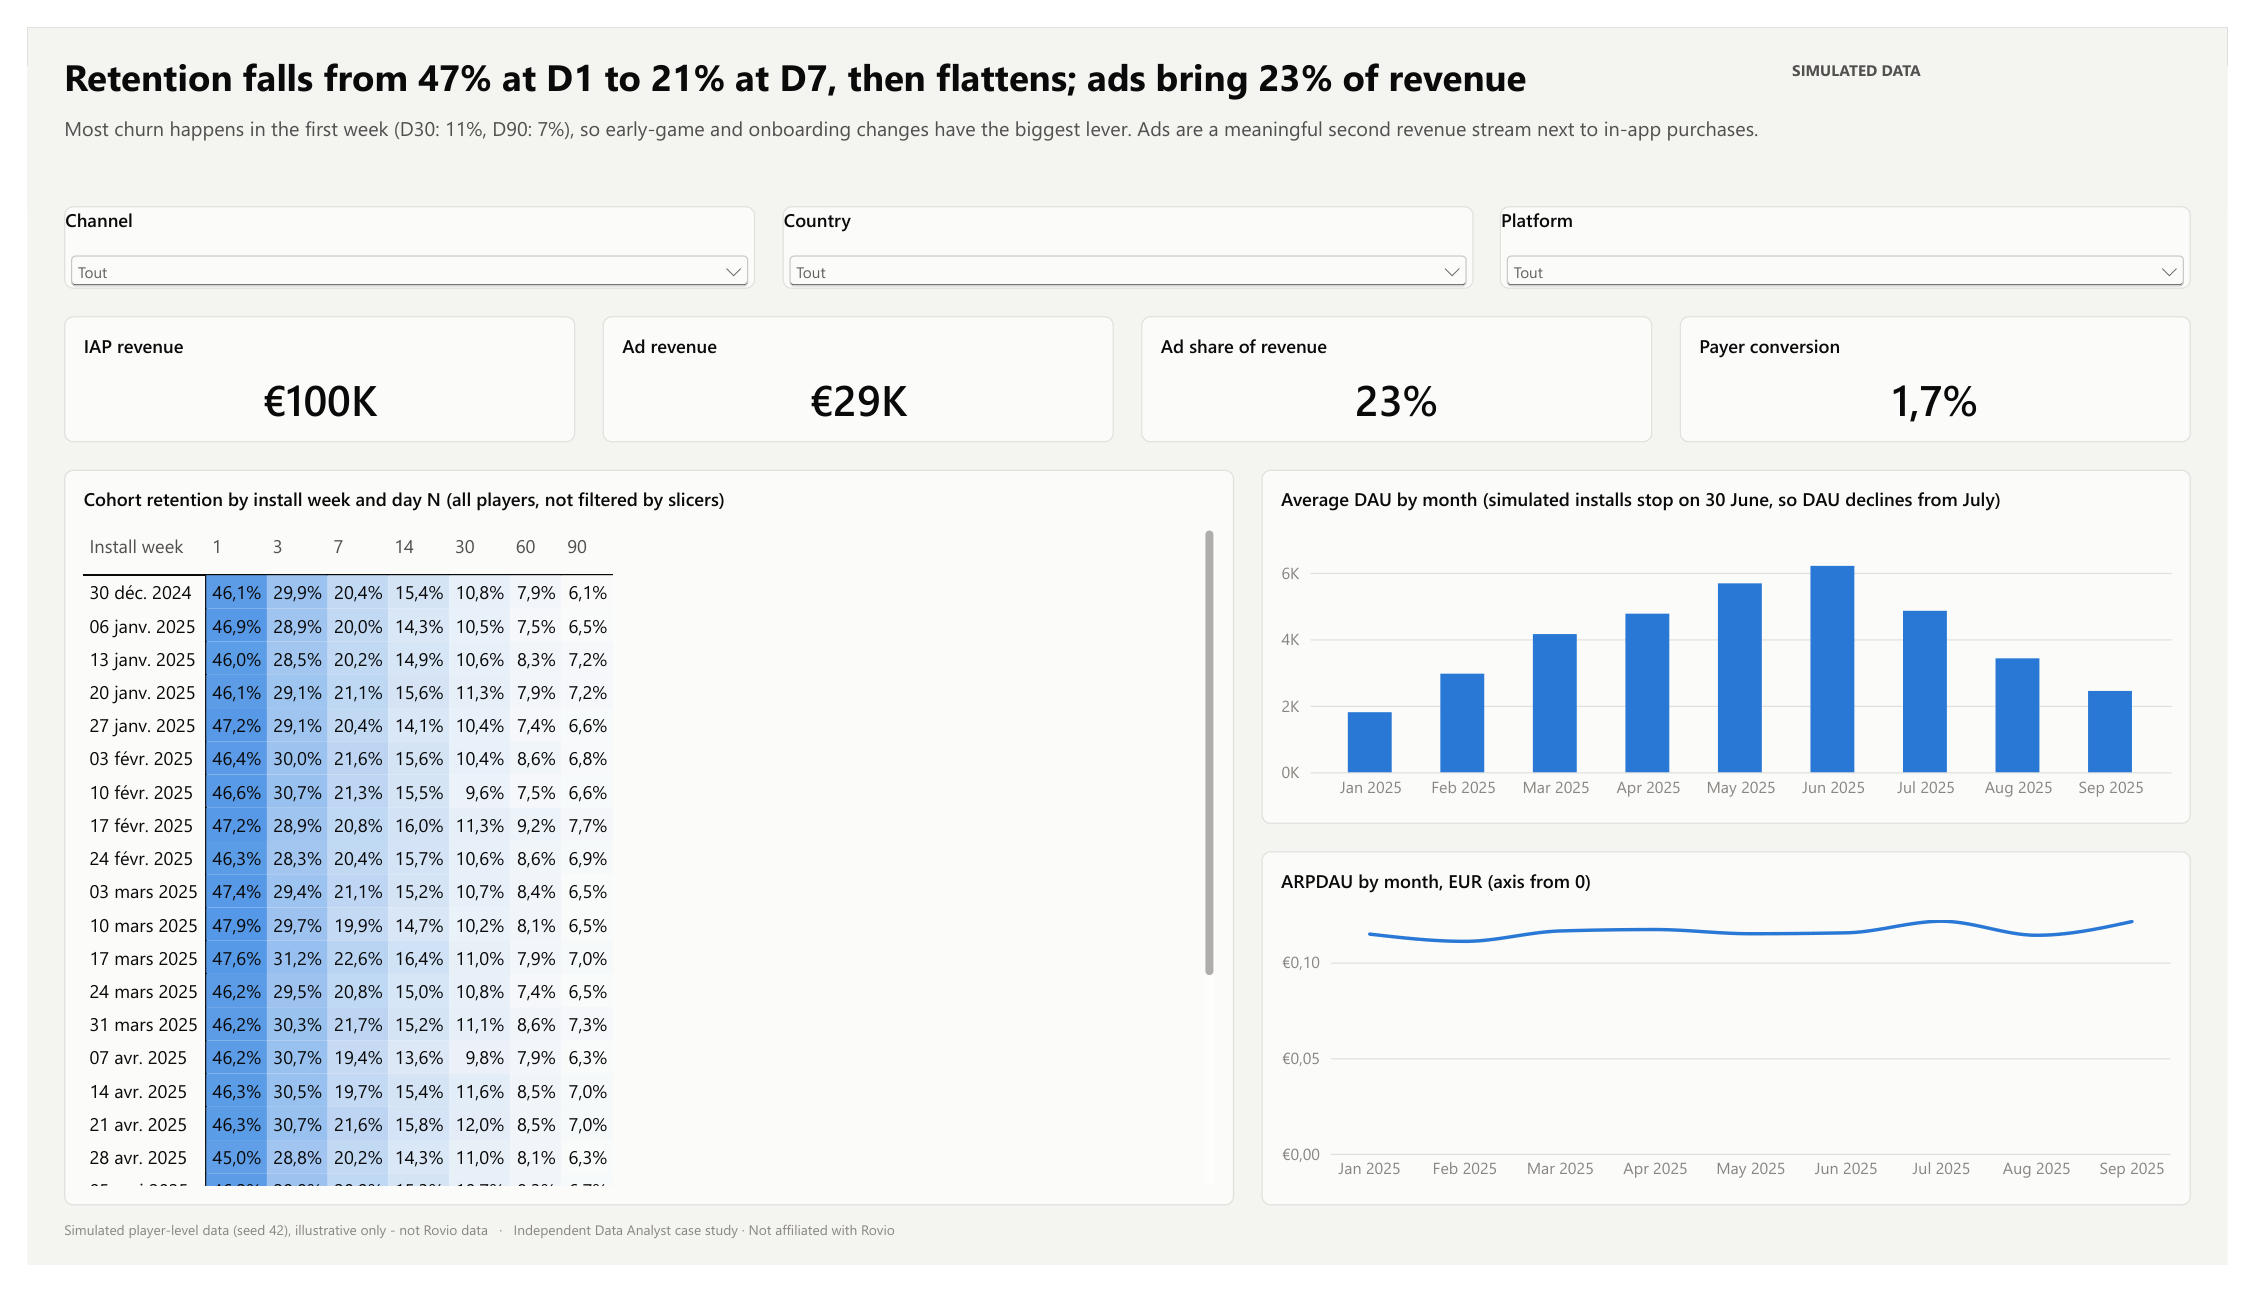

This screenshot's page, from the dashboard's own definition file:
{"tool":"powerbi","page":{"name":"3 · Retention & monetization","canvas":[1920,1080],"ordinal":3},"visuals":[{"type":"textbox","box":[32,20,1500,56],"z":1000},{"type":"textbox","box":[1540,28,348,40],"z":2000},{"type":"textbox","box":[32,76,1856,64],"z":3000},{"type":"slicer","title":"Channel","fields":{"Values":["Channel.channel"]},"box":[32,156,603,72],"z":4000},{"type":"slicer","title":"Country","fields":{"Values":["Country.country"]},"box":[659,156,603,72],"z":5000},{"type":"slicer","title":"Platform","fields":{"Values":["Players.platform"]},"box":[1285,156,603,72],"z":6000},{"type":"card","title":"IAP revenue","fields":{"Values":["_Measures.IAP Revenue"]},"box":[32,252,446,110],"z":7000},{"type":"card","title":"Ad revenue","fields":{"Values":["_Measures.Ad Revenue"]},"box":[502,252,446,110],"z":8000},{"type":"card","title":"Ad share of revenue","fields":{"Values":["_Measures.Ad Share"]},"box":[972,252,446,110],"z":9000},{"type":"card","title":"Payer conversion","fields":{"Values":["_Measures.Payer Conversion"]},"box":[1442,252,446,110],"z":10000},{"type":"pivotTable","title":"Cohort retention by install week and day N (all players, not filtered by slicers)","fields":{"Columns":["Cohort Retention.day_n"],"Rows":["Cohort Retention.cohort_week"],"Values":["_Measures.Cohort Retention"]},"box":[32,386,1021,642],"z":11000},{"type":"clusteredColumnChart","title":"Average DAU by month (simulated installs stop on 30 June, so DAU declines from July)","fields":{"Category":["Date.Month"],"Y":["_Measures.DAU"]},"box":[1077,386,811,309],"z":12000},{"type":"lineChart","title":"ARPDAU by month, EUR (axis from 0)","fields":{"Category":["Date.Month"],"Y":["_Measures.ARPDAU"]},"box":[1077,719,811,309],"z":13000},{"type":"textbox","box":[32,1040,1856,32],"z":14000}]}

Visuals, with their boxes in screenshot pixels (x1, y1, x2, y2), scaled from the page's 1920x1080 canvas onto the 2255x1293 screenshot:
textbox: left=38, top=24, right=1799, bottom=91
textbox: left=1809, top=34, right=2217, bottom=81
textbox: left=38, top=91, right=2217, bottom=168
"Channel" slicer: left=38, top=187, right=746, bottom=273
"Country" slicer: left=774, top=187, right=1482, bottom=273
"Platform" slicer: left=1509, top=187, right=2217, bottom=273
"IAP revenue" card: left=38, top=302, right=561, bottom=433
"Ad revenue" card: left=590, top=302, right=1113, bottom=433
"Ad share of revenue" card: left=1142, top=302, right=1665, bottom=433
"Payer conversion" card: left=1694, top=302, right=2217, bottom=433
"Cohort retention by install week and day N (all players, not filtered by slicers)" pivotTable: left=38, top=462, right=1237, bottom=1231
"Average DAU by month (simulated installs stop on 30 June, so DAU declines from July)" clusteredColumnChart: left=1265, top=462, right=2217, bottom=832
"ARPDAU by month, EUR (axis from 0)" lineChart: left=1265, top=861, right=2217, bottom=1231
textbox: left=38, top=1245, right=2217, bottom=1283
